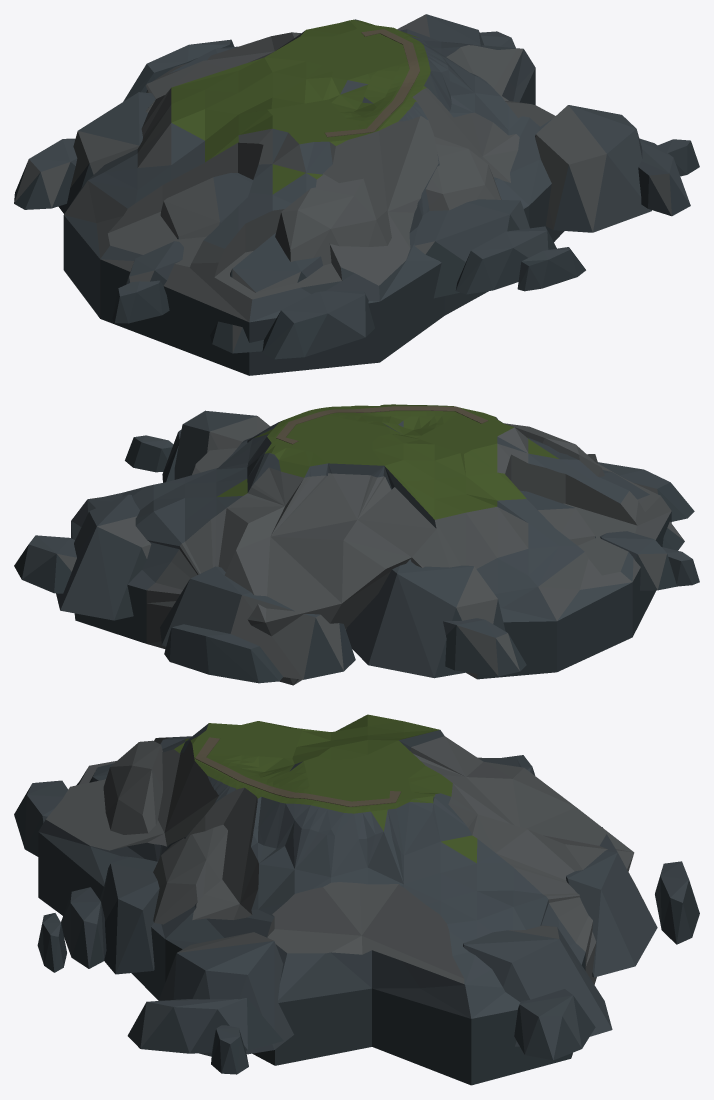
The model's file is island_c.glb.
3 renders of one model, top to bottom at view 1: azimuth 30°, elevation 25°; view 2: azimuth 150°, elevation 25°; view 3: azimuth 270°, elevation 25°, orthographic. The views are drawn at different scales.
Parts seen in each view (by area): view 1: island_c_Coast short olive grass, island_c_Coast blue grey bedrock, island_c_Coast weathered stone footpath; view 2: island_c_Coast short olive grass, island_c_Coast blue grey bedrock, island_c_Coast weathered stone footpath; view 3: island_c_Coast short olive grass, island_c_Coast blue grey bedrock, island_c_Coast weathered stone footpath.
Part boxes in pixels (<box>): island_c_Coast short olive grass: <box>63,19,564,375</box>; island_c_Coast blue grey bedrock: <box>14,14,699,359</box>; island_c_Coast weathered stone footpath: <box>325,29,419,137</box>; island_c_Coast short olive grass: <box>71,404,671,685</box>; island_c_Coast blue grey bedrock: <box>14,410,699,683</box>; island_c_Coast weathered stone footpath: <box>276,406,488,444</box>; island_c_Coast short olive grass: <box>38,714,634,1085</box>; island_c_Coast blue grey bedrock: <box>14,755,699,1074</box>; island_c_Coast weathered stone footpath: <box>195,737,400,806</box>.
Size of the model in its own units: 64.61 by 17.59 by 59.14.
